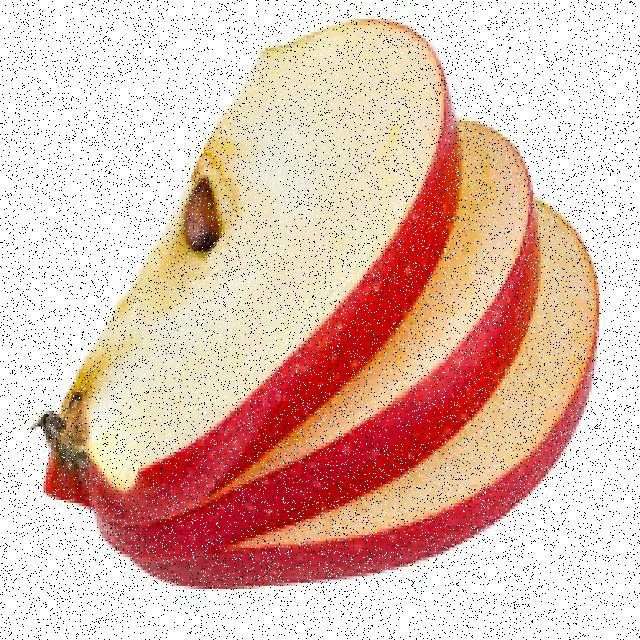Apple: (68, 14, 462, 480), (292, 112, 552, 494), (380, 212, 603, 578)
